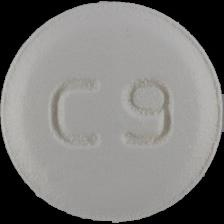33342-067: (0, 0, 224, 224)
